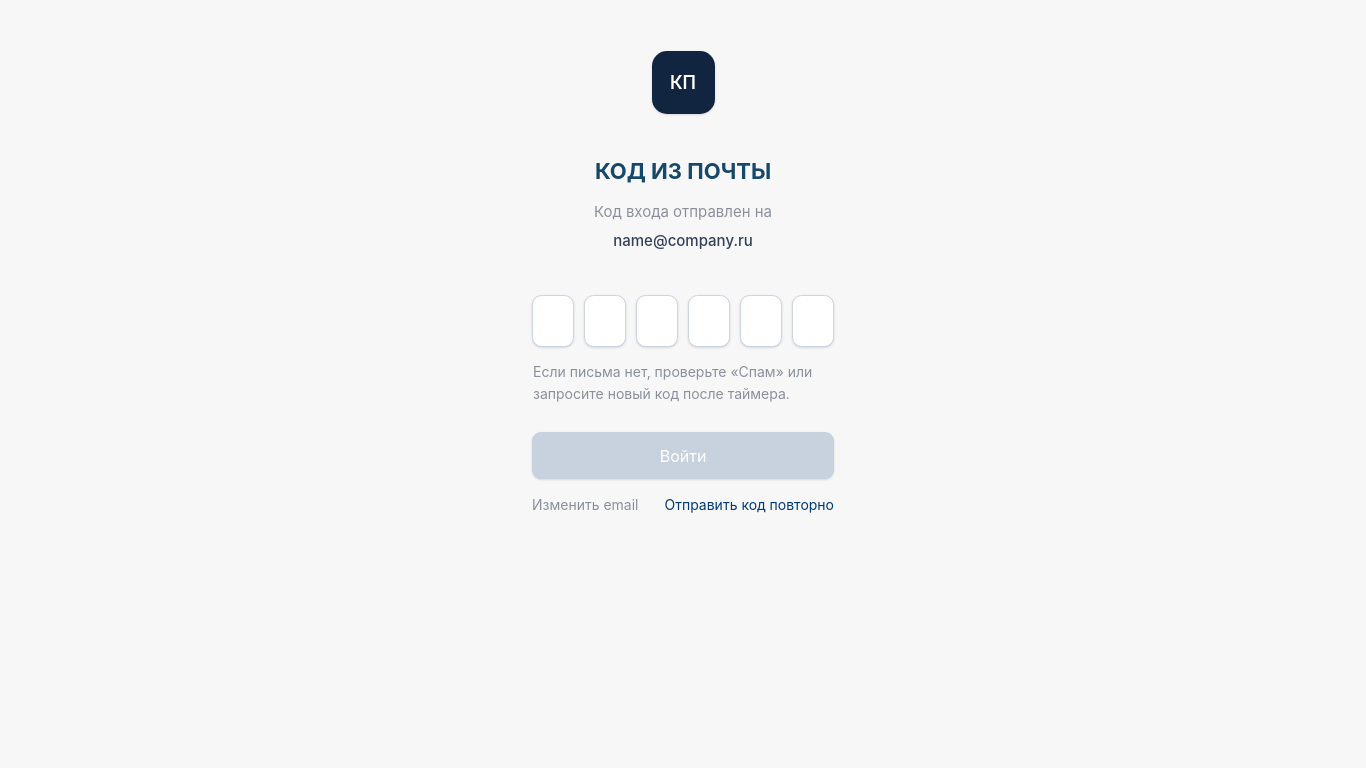
Passwordless login pages › verifies passwordless login code, stores authenticated session, and opens chat
Click the field named "Код из письма" at (553, 321), box [532, 295, 574, 347]
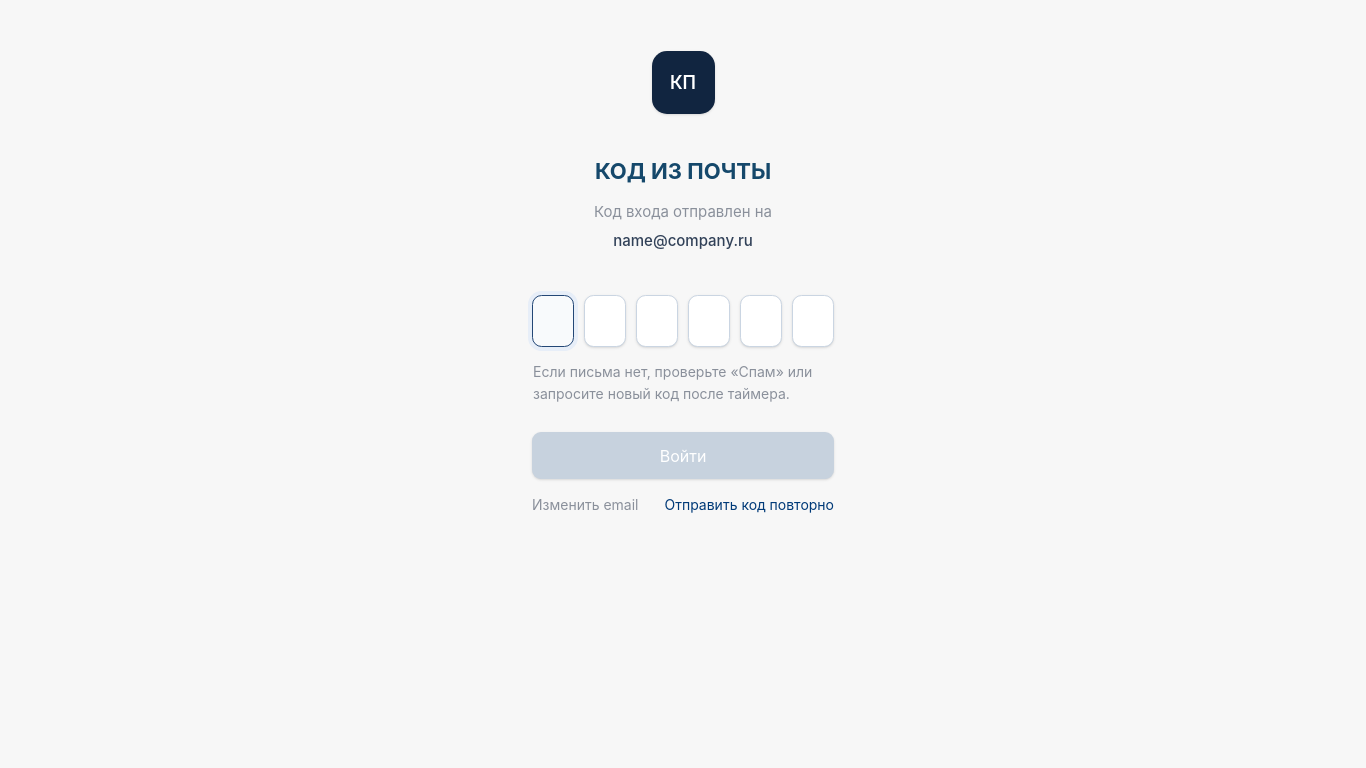
Type keys "123456"
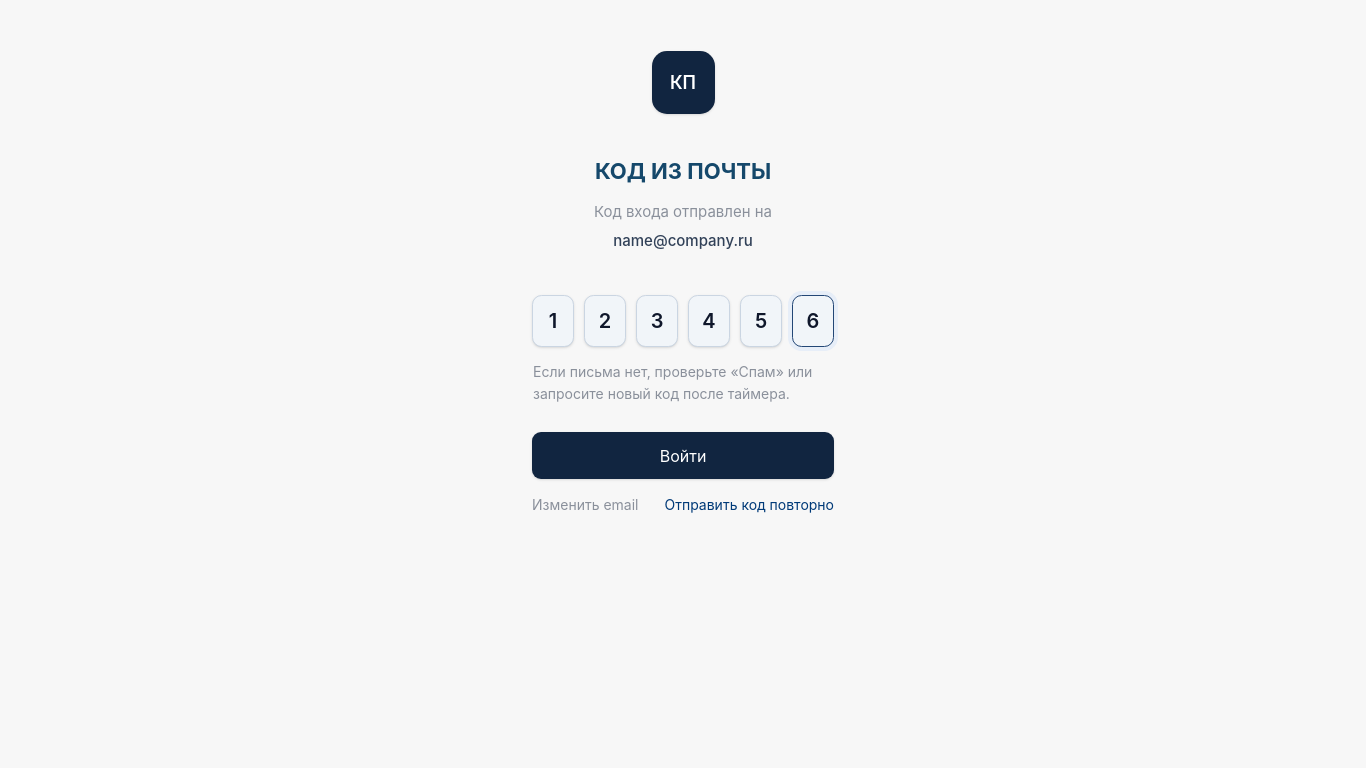
Click the button "Войти" at (683, 456), box [532, 432, 834, 479]
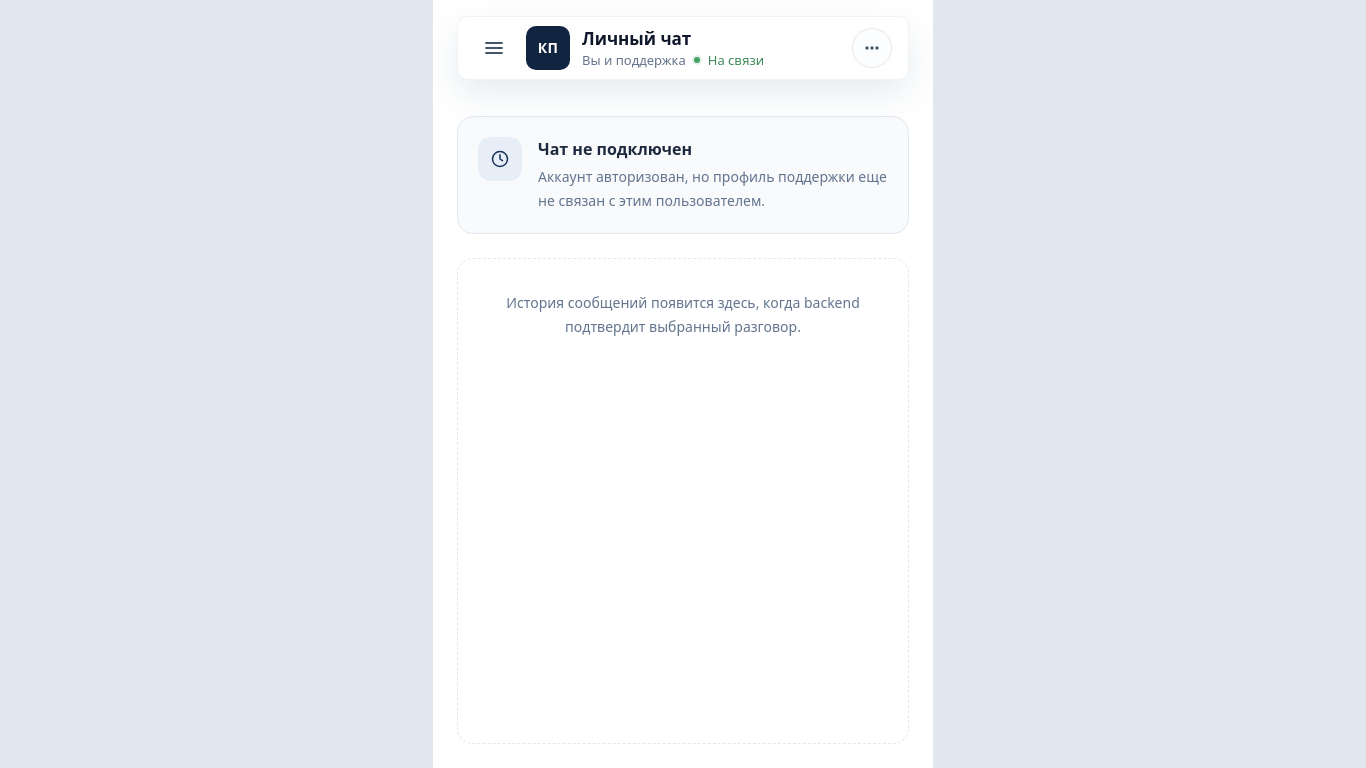
Expected: the heading "Личный чат" is shown, [582, 27, 691, 50]
